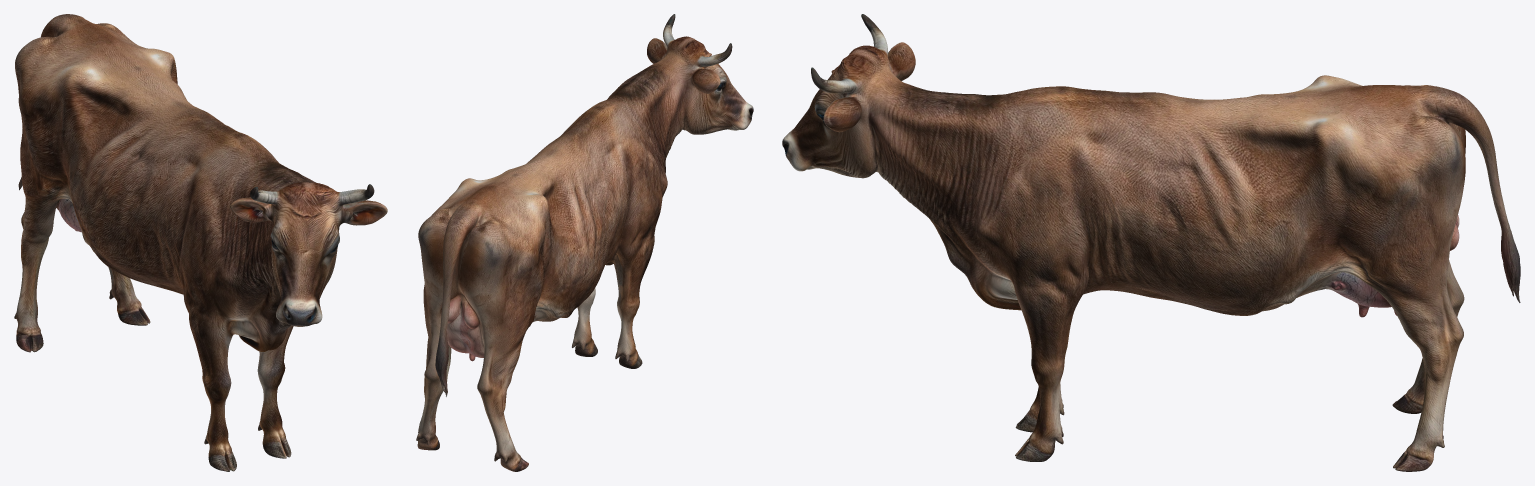
Rendered from brown_cow_3d_model.glb.
3 views of the same model, side by side, from view 1: azimuth 30°, elevation 25°; view 2: azimuth 150°, elevation 25°; view 3: azimuth 270°, elevation 25° (orthographic). The views are drawn at different scales.
Visible parts, largest first — view 1: Object_5, Object_6, Object_7; view 2: Object_5, Object_6, Object_7; view 3: Object_5, Object_6, Object_7.
Boxes of the visible parts, x1,y1,x2,y2 form: Object_5: (15, 14, 387, 351); Object_6: (14, 21, 315, 471); Object_7: (229, 182, 385, 315); Object_5: (418, 16, 753, 464); Object_6: (416, 58, 685, 471); Object_7: (643, 14, 746, 145); Object_5: (782, 67, 1520, 469); Object_6: (886, 76, 1449, 471); Object_7: (811, 14, 928, 214).
Bounding box in the file's own units: 0.4877 × 1.1 × 1.9.
Materials: 1 (1 with a texture image).
